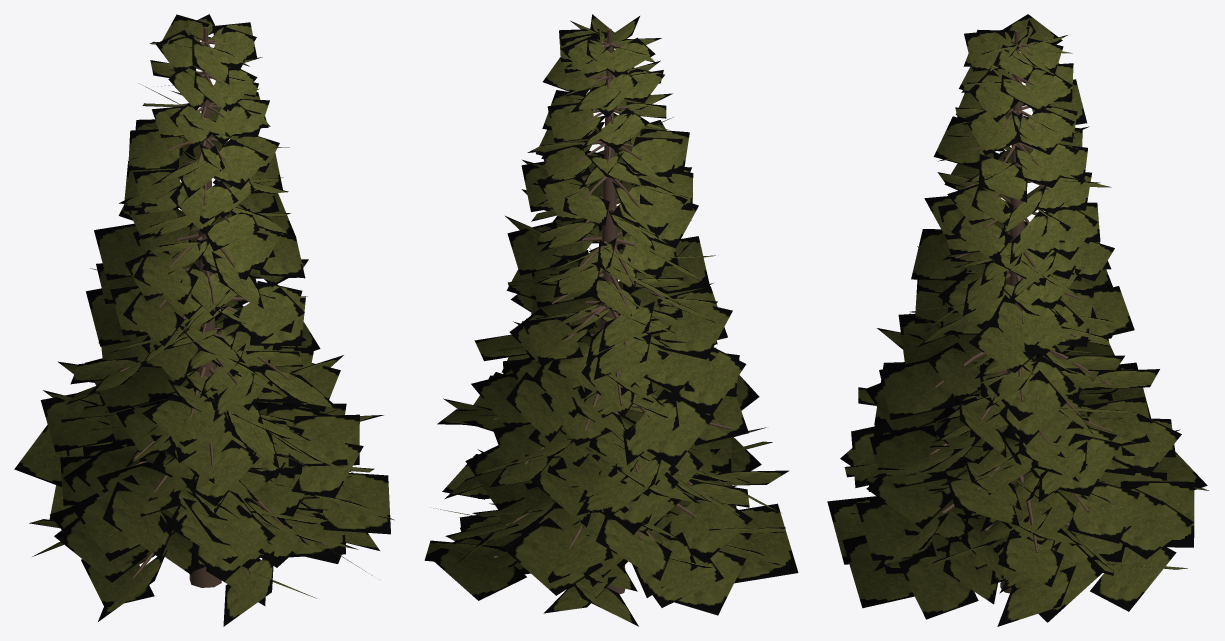
File: pine_3_burnt1.glb
3 renders of one model, left to right at view 1: azimuth 30°, elevation 25°; view 2: azimuth 150°, elevation 25°; view 3: azimuth 270°, elevation 25°, orthographic.
Parts seen in each view (by area): view 1: pine_3_burnt1; view 2: pine_3_burnt1; view 3: pine_3_burnt1.
Boxes of the visible parts, left/top/right/bottom form: pine_3_burnt1: left=14, top=14, right=394, bottom=626; pine_3_burnt1: left=424, top=14, right=798, bottom=626; pine_3_burnt1: left=827, top=14, right=1209, bottom=626.
Size of the model in its own units: 7.13 by 11.73 by 7.32.
Materials: 2 (1 with a texture image).
